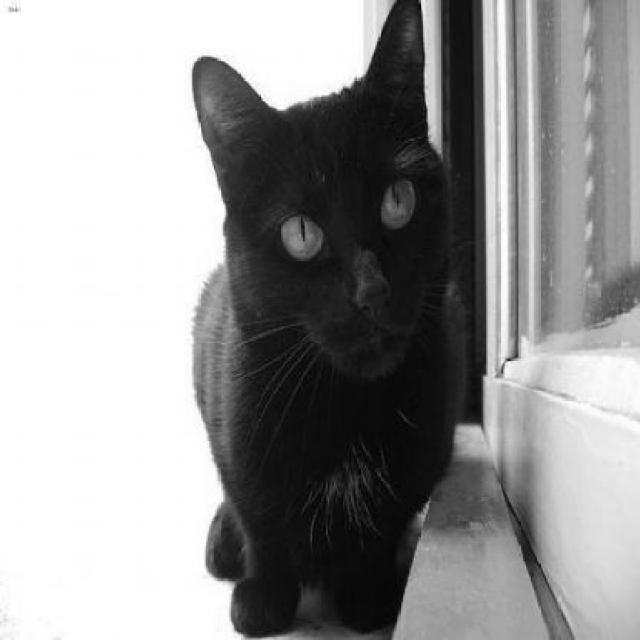Cat: (191, 0, 457, 635)
